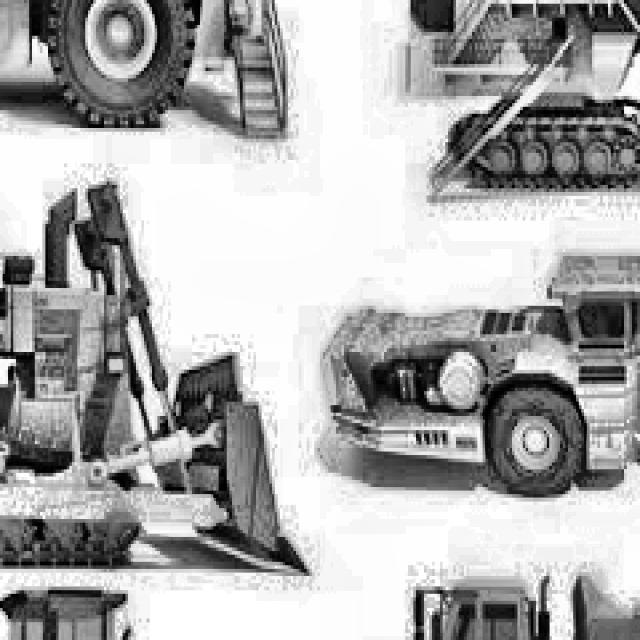buldozerpayloadergrader: (0, 135, 320, 573), (298, 238, 640, 540)
excavator: (354, 0, 640, 227)
